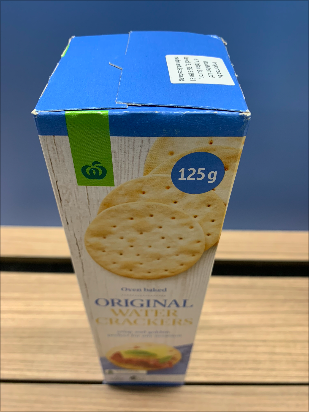Crackers_100-199g: (73, 120, 215, 369)
